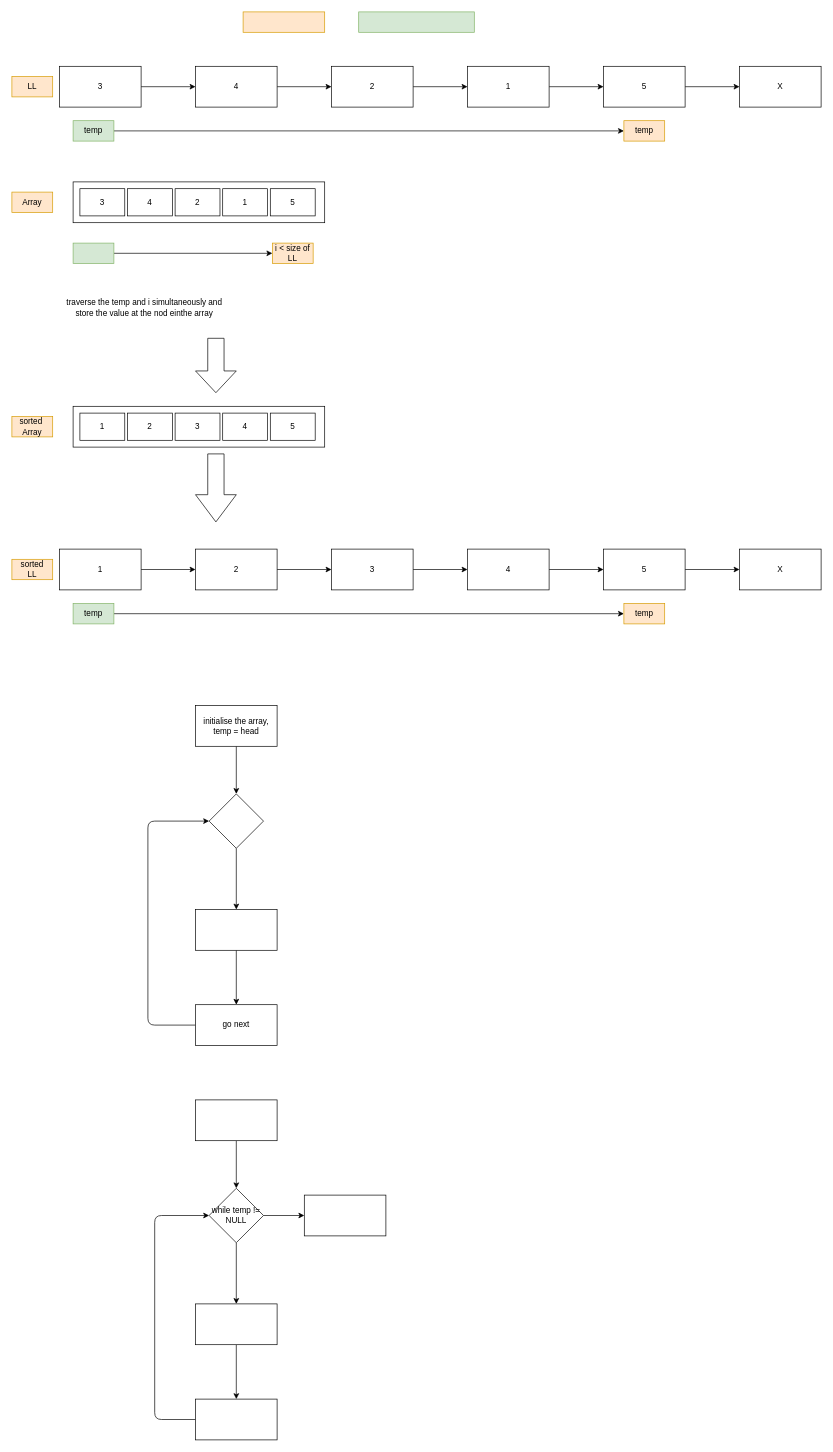
The diagram is 833 pixels wide and 1452 high, and some of its shapes have lost their labels. The box of each missing label's shape, as (x1, y1, x2, y2) in pixels:
add the data corrresponding to the temp in the array.: (195, 909, 277, 950)
Brute Force: (242, 11, 325, 32)
i = 0: (72, 242, 114, 264)
Put the element in the LL wile trsversing temp and i simultaneously: (195, 453, 236, 522)
requirements - merge sort, quick sort: (358, 11, 474, 32)
return head: (304, 1194, 386, 1236)
sort array: (195, 338, 236, 393)
sort the array, temp = head: (195, 1099, 277, 1141)
temp != NULL: (208, 793, 264, 848)
temp = temp.next; i = i + 1: (195, 1398, 277, 1440)
temp.data = arr[i]: (195, 1303, 277, 1345)
